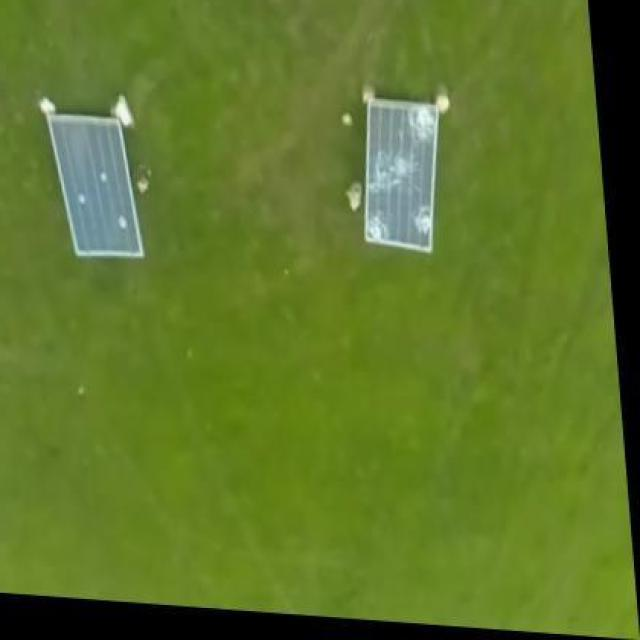cracked: (364, 94, 445, 254)
soiled: (47, 111, 143, 262)
